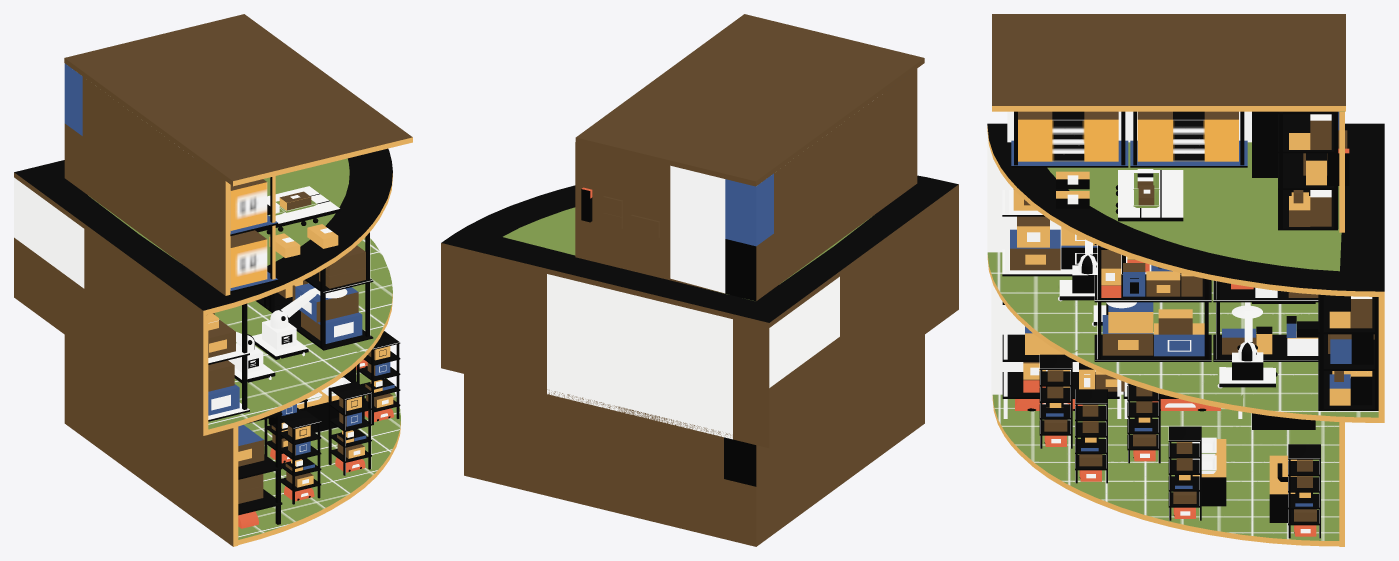
3 views of the same model, side by side, from view 1: azimuth 30°, elevation 25°; view 2: azimuth 150°, elevation 25°; view 3: azimuth 270°, elevation 25° (orthographic). The views are drawn at different scales.
Parts seen in each view (by area): view 1: 仓库, 箱子, 桌子, 两层柜子_5, 机器人, 黑柜子_6, 立方体_2, 黑柜子_11, 黑柜子_2, 立方体_5, 黑柜子_7, 两层柜子 (+4 smaller); view 2: 仓库, 箱子; view 3: 仓库, 箱子, 立方体_7, 立方体_2, 桌子, 黑柜子_4, 黑柜子_1, 两层柜子_5, 机器人_1, 两层柜子_2, 黑柜子_2, 黑柜子_11 (+11 smaller).
Part boxes in pixels (x1,y1,x2,y2): 仓库: [14, 14, 412, 546]; 箱子: [208, 245, 394, 503]; 桌子: [255, 186, 364, 432]; 两层柜子_5: [267, 232, 373, 350]; 机器人: [252, 288, 347, 361]; 黑柜子_6: [328, 381, 371, 475]; 立方体_2: [230, 230, 267, 287]; 黑柜子_11: [281, 410, 321, 504]; 黑柜子_2: [238, 411, 282, 524]; 立方体_5: [230, 179, 267, 230]; 黑柜子_7: [357, 331, 400, 425]; 两层柜子: [230, 176, 278, 292]; 仓库: [441, 14, 958, 546]; 箱子: [581, 187, 659, 238]; 仓库: [987, 14, 1384, 546]; 箱子: [1010, 114, 1374, 521]; 立方体_7: [1137, 111, 1238, 161]; 立方体_2: [1018, 111, 1118, 161]; 桌子: [1115, 170, 1296, 522]; 黑柜子_4: [1278, 111, 1338, 230]; 黑柜子_1: [1318, 294, 1378, 410]; 两层柜子_5: [1094, 244, 1211, 361]; 机器人_1: [1217, 302, 1277, 388]; 两层柜子_2: [1213, 280, 1318, 361]; 黑柜子_2: [1002, 302, 1121, 418]; 黑柜子_11: [1039, 354, 1072, 448].
Size of the model in its own units: 1000 by 1065 by 1000.
